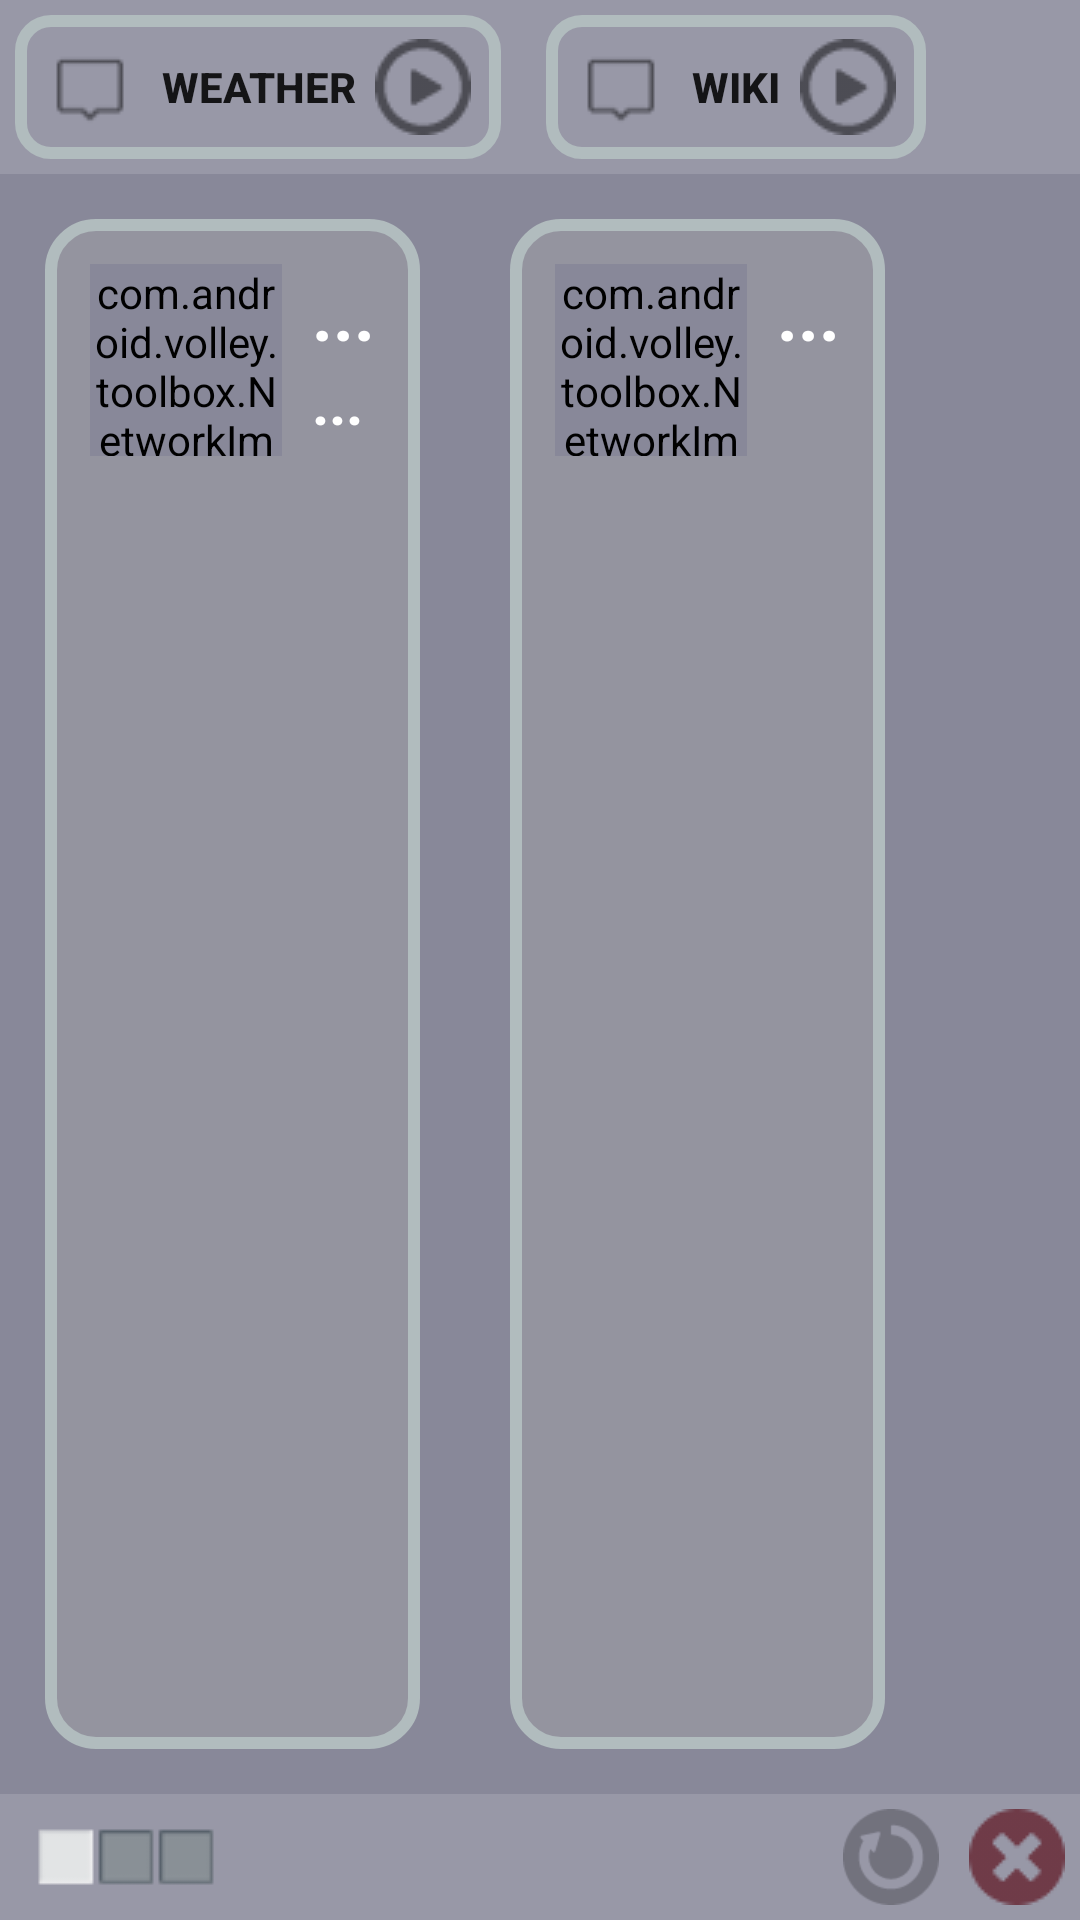

Named icons in this screenshot (1080 × 1920) and their centers, point (x, y):
cancel all: point (1017, 1857)
fetching: point (891, 1857)
